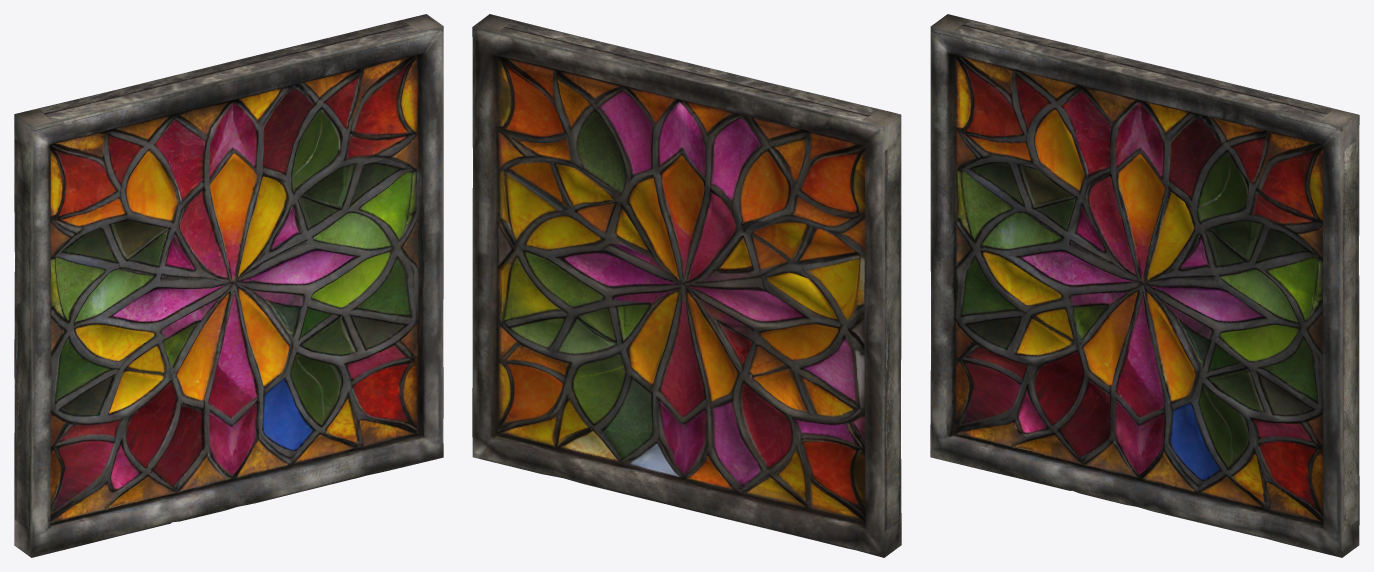
Rendered from testTile5.glb.
3 views of the same model, side by side, from view 1: azimuth 30°, elevation 25°; view 2: azimuth 150°, elevation 25°; view 3: azimuth 330°, elevation 25° (orthographic).
Parts seen in each view (by area): view 1: Mesh_0; view 2: Mesh_0; view 3: Mesh_0.
Boxes of the visible parts, <box> form: Mesh_0: <box>14,14,443,557</box>; Mesh_0: <box>472,14,901,557</box>; Mesh_0: <box>930,14,1359,557</box>.
Size of the model in its own units: 1 by 1 by 0.073.
Materials: 1 (1 with a texture image).
